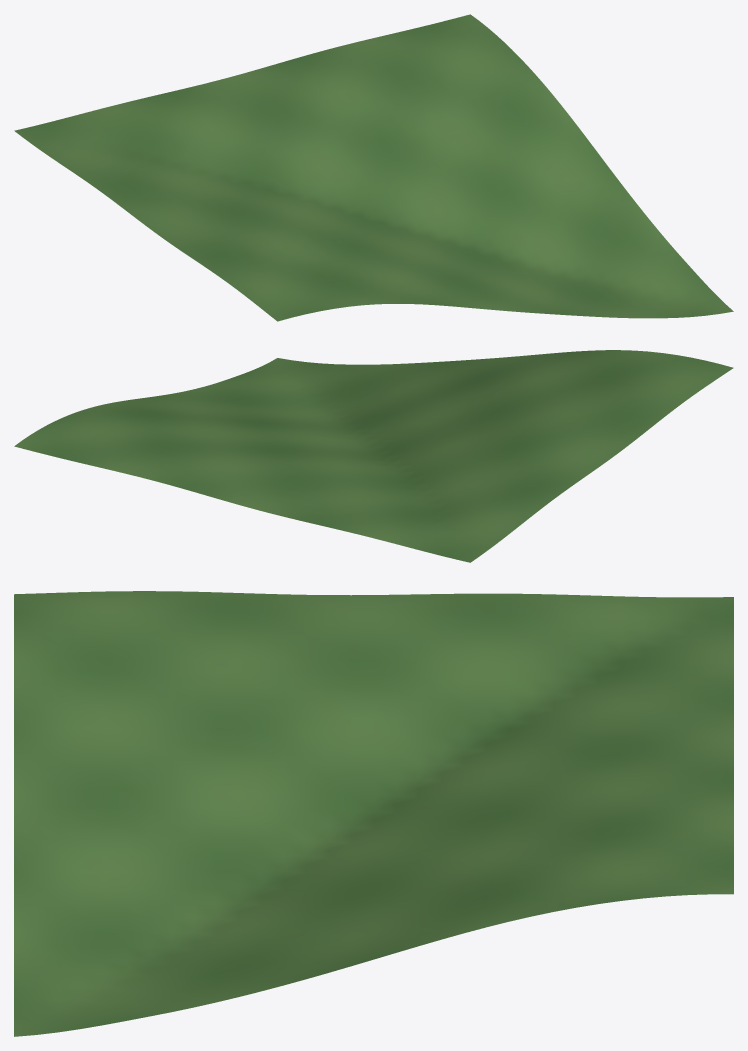
The model's file is chunk_0_0.glb.
3 renders of one model, top to bottom at view 1: azimuth 30°, elevation 25°; view 2: azimuth 150°, elevation 25°; view 3: azimuth 270°, elevation 25°, orthographic. The views are drawn at different scales.
Bounding box in the file's own units: 512 × 112 × 512.
